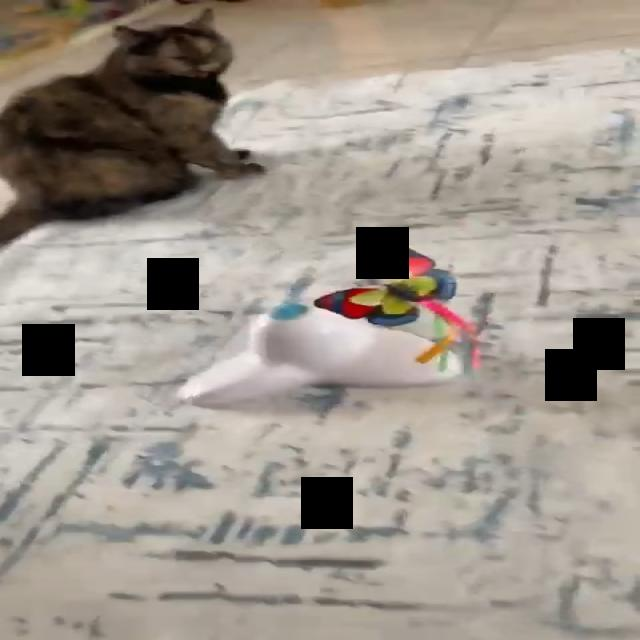authorized: (0, 6, 267, 248)
